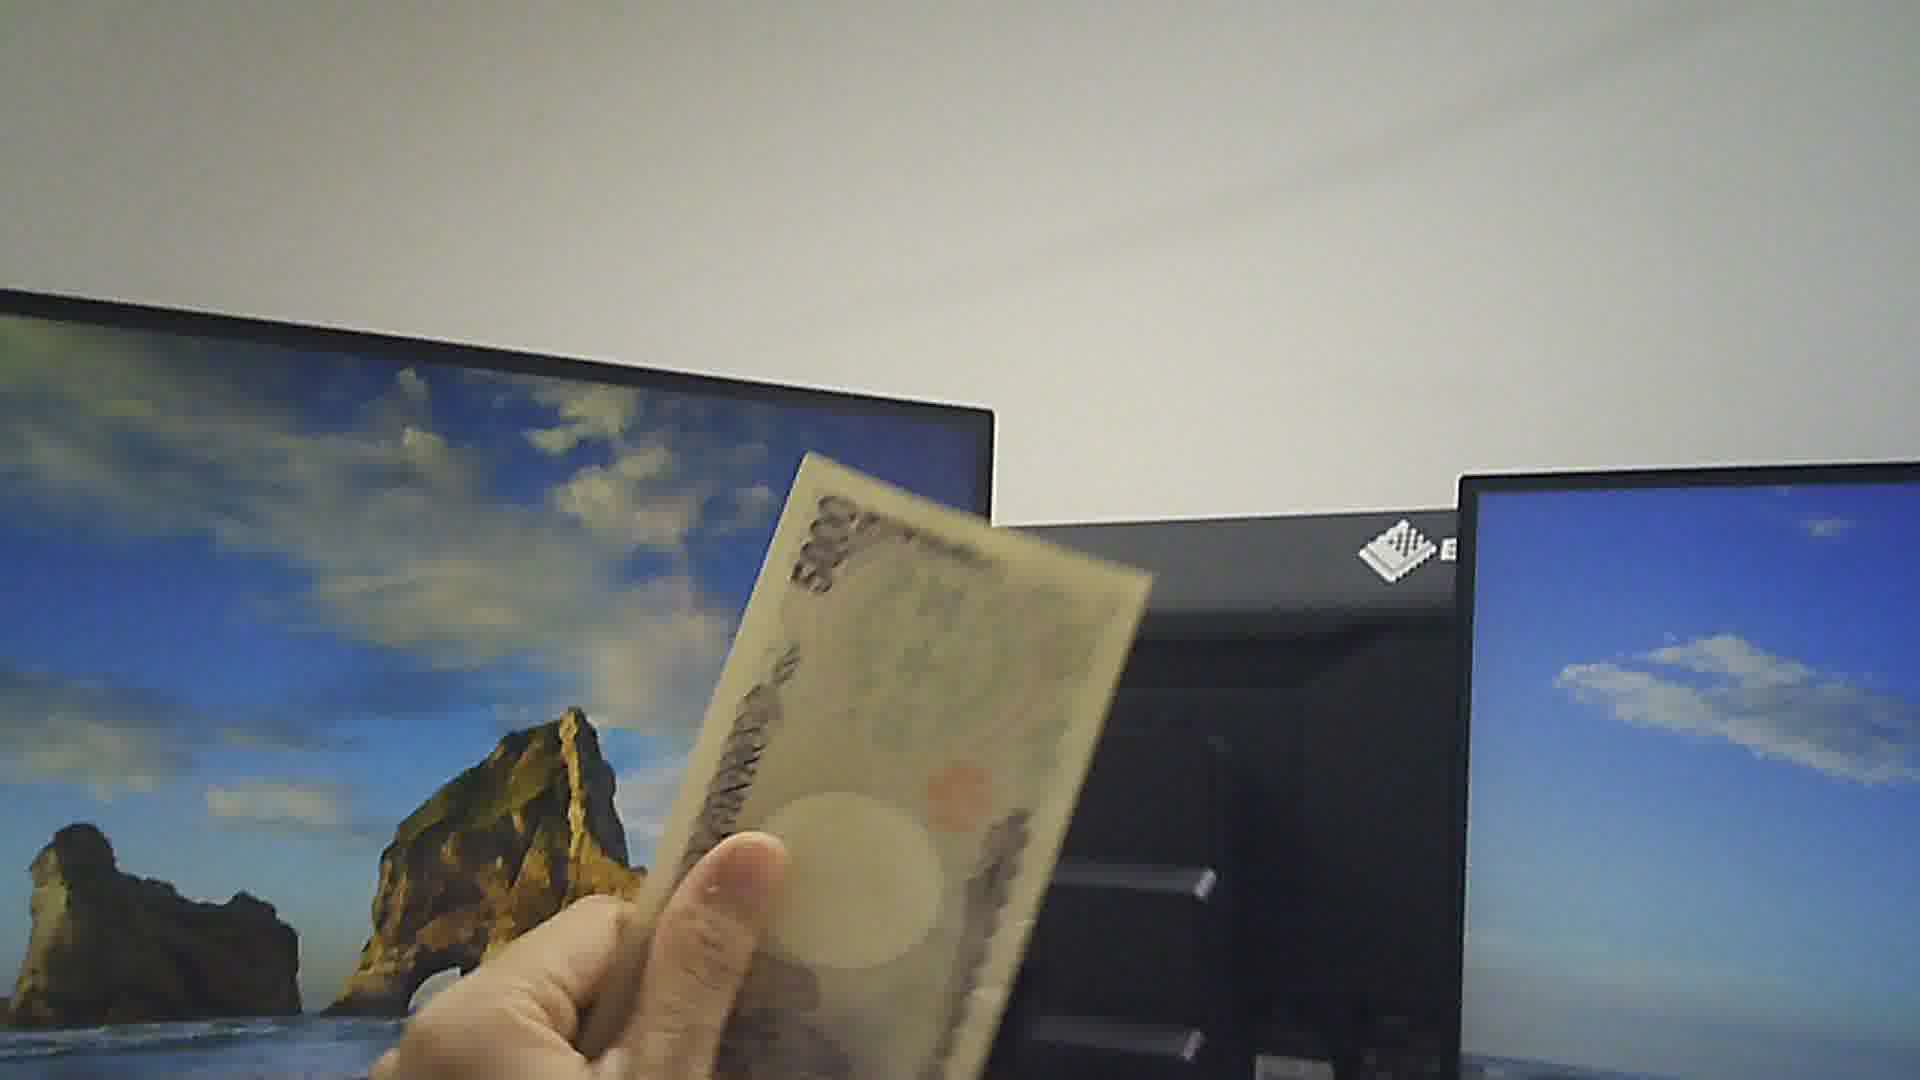5,000 Yen: (607, 436, 1098, 1079)
